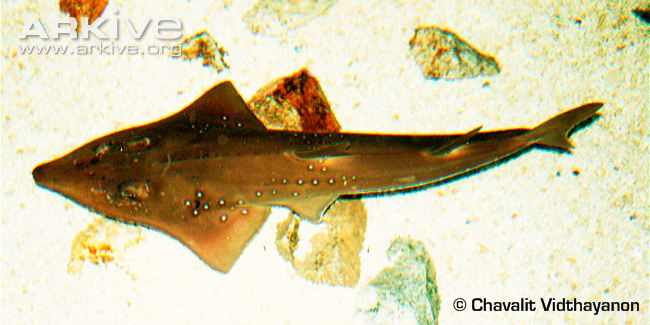shark: (12, 67, 625, 279)
